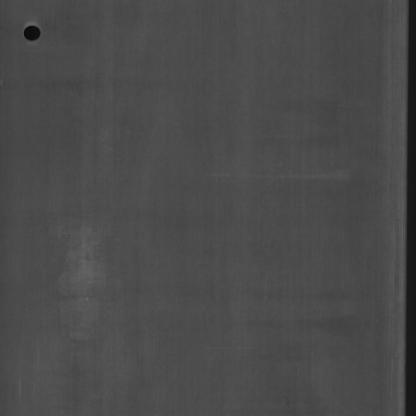punching_hole: (20, 18, 46, 47)
